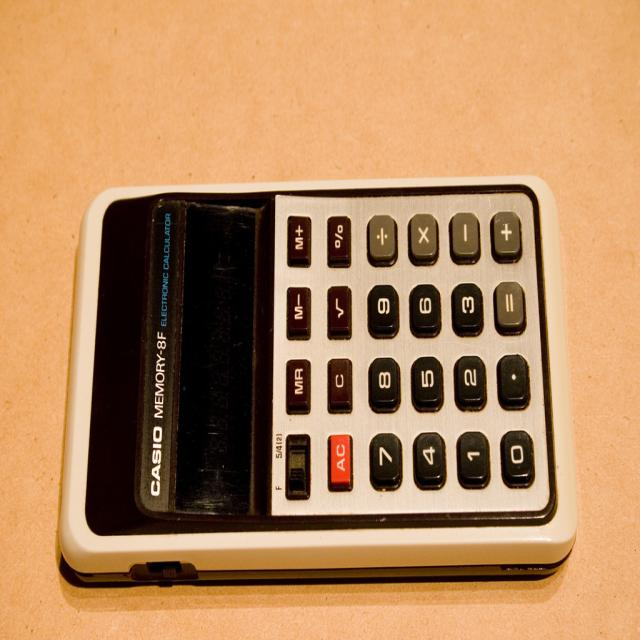Calculator: (57, 171, 578, 580)
